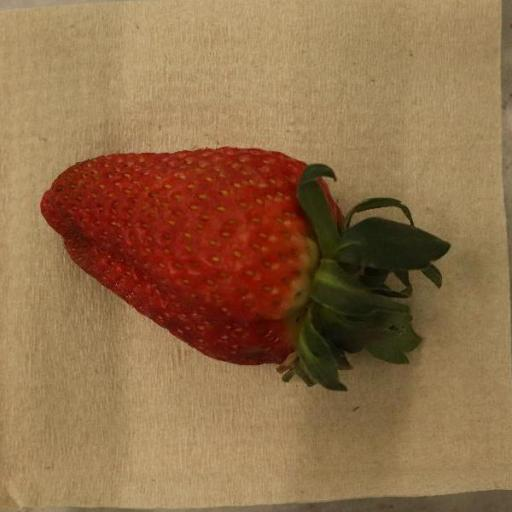Strawberry: (40, 148, 455, 393)
